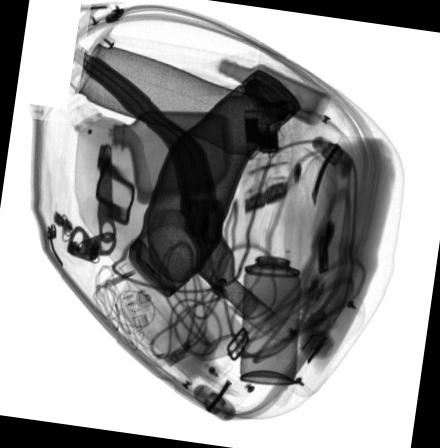Sprayer: (239, 232, 305, 386)
